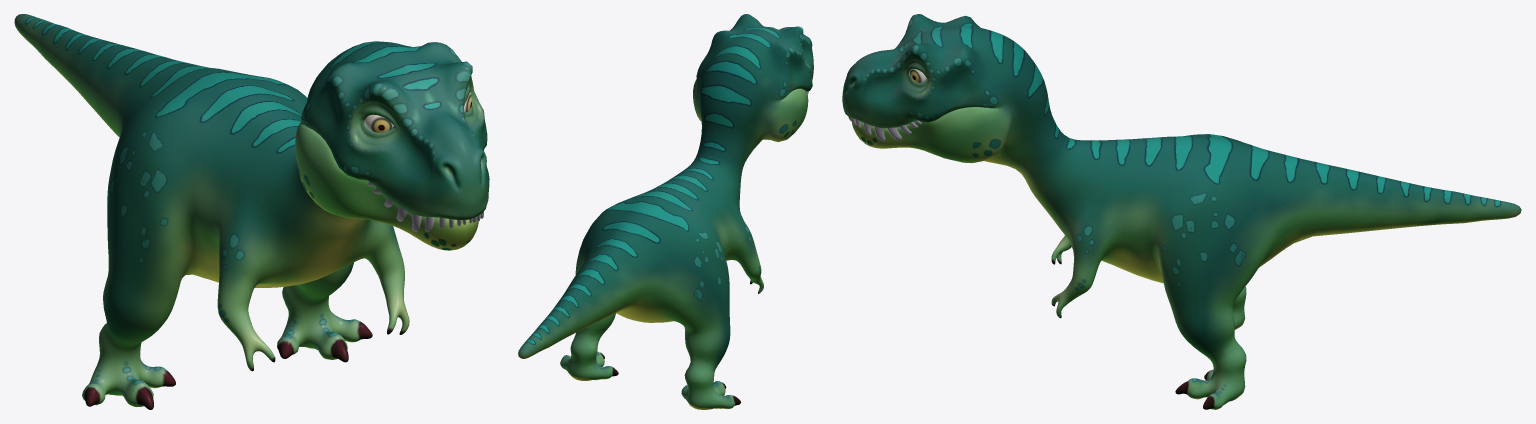
File: Rex_mat.obj
The picture shows the model from 3 angles, left to right: view 1: azimuth 30°, elevation 25°; view 2: azimuth 150°, elevation 25°; view 3: azimuth 270°, elevation 25°; orthographic projection. The views are drawn at different scales.
Visible parts, largest first — view 1: Msh_Rex; view 2: Msh_Rex; view 3: Msh_Rex.
Part boxes in pixels (<box>): Msh_Rex: <box>14,14,489,409</box>; Msh_Rex: <box>518,14,813,409</box>; Msh_Rex: <box>842,14,1521,409</box>.
Size of the model in its own units: 1.81 by 2.71 by 5.01.
2 materials, 2 textured.
